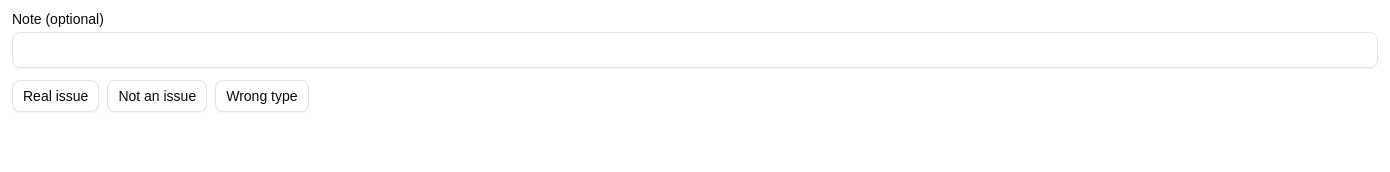
Scenario: VerdictButtons › disables every button while a verdict is pending
Click the button "Not an issue" at (157, 96), box [107,80,207,112]
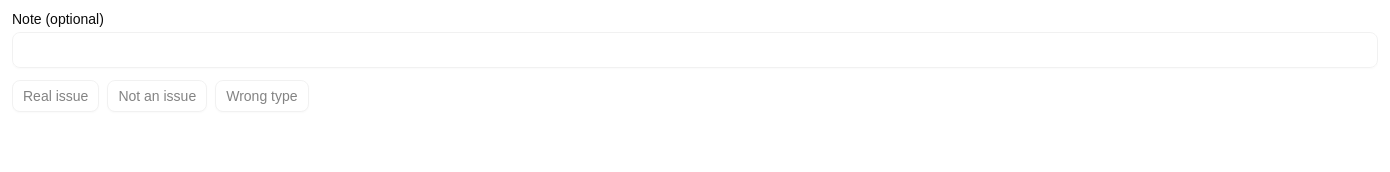
Expected: the button "Real issue" is disabled, [12,80,99,112]
Expected: the button "Not an issue" is disabled, [107,80,207,112]
Expected: the button "Wrong type" is disabled, [215,80,308,112]
